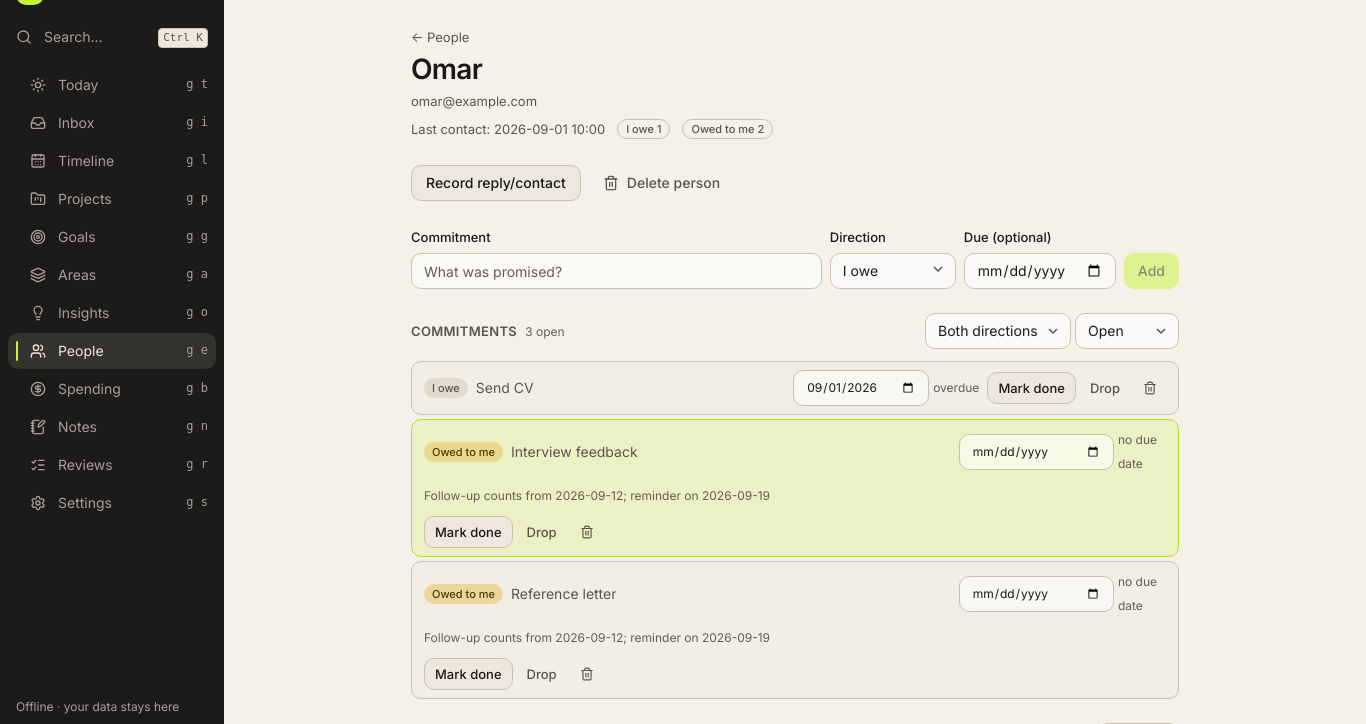
Test case: People pages › records a reply without completing anything and highlights a linked commitment
(page scrolled)
Expected: the number of list items with test id "commitment-row" is 3, x1=411 y1=361 x2=1179 y2=415; x1=411 y1=419 x2=1179 y2=557; x1=411 y1=561 x2=1179 y2=699
Expected: the 1st text with test id "follow-up" reads "Follow-up counts from 2026-09-12; reminder on 2026-09-19", x1=424 y1=488 x2=770 y2=503
Click the button "Record reply/contact": (496, 183) x1=411 y1=165 x2=581 y2=201
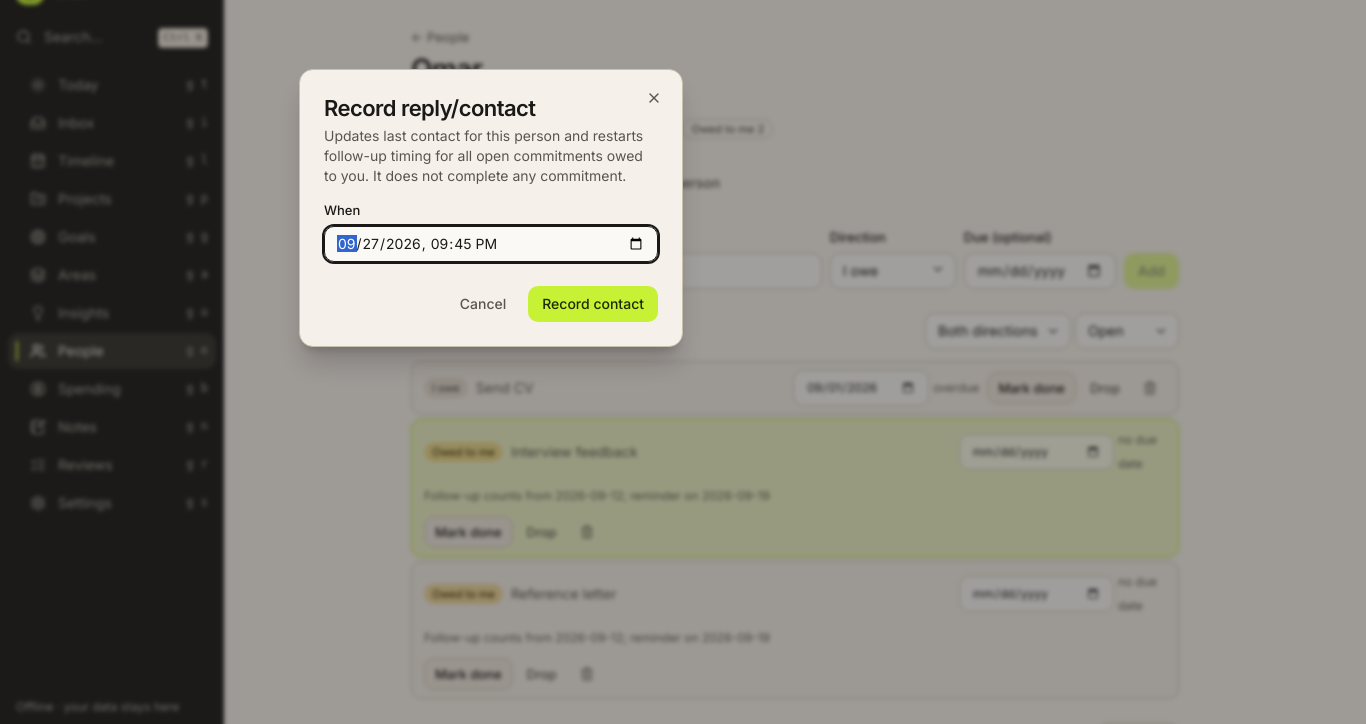
Expected: the dialog with test id "contact-dialog" shows "It does not complete any commitment.", x1=324 y1=127 x2=643 y2=184
Click the button "Record contact": (593, 304) x1=528 y1=286 x2=658 y2=322
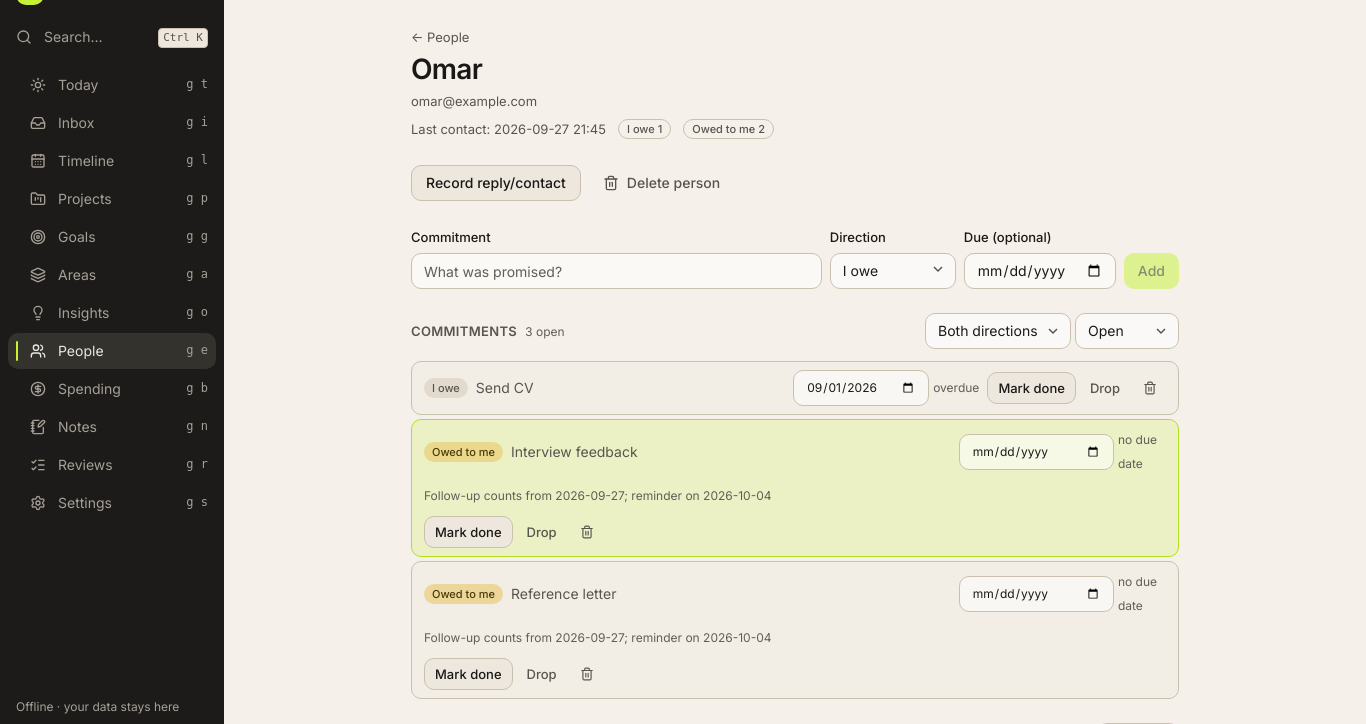
Expected: the text with test id "last-contact" no longer shows "2026-09-01", x1=411 y1=117 x2=606 y2=141
